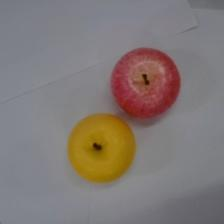red: (110, 46, 181, 119)
yellow: (67, 111, 137, 183)
